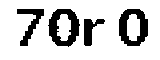0: (114, 7, 151, 53), (47, 6, 81, 49)
7: (9, 5, 49, 49)
r: (82, 15, 108, 52)
